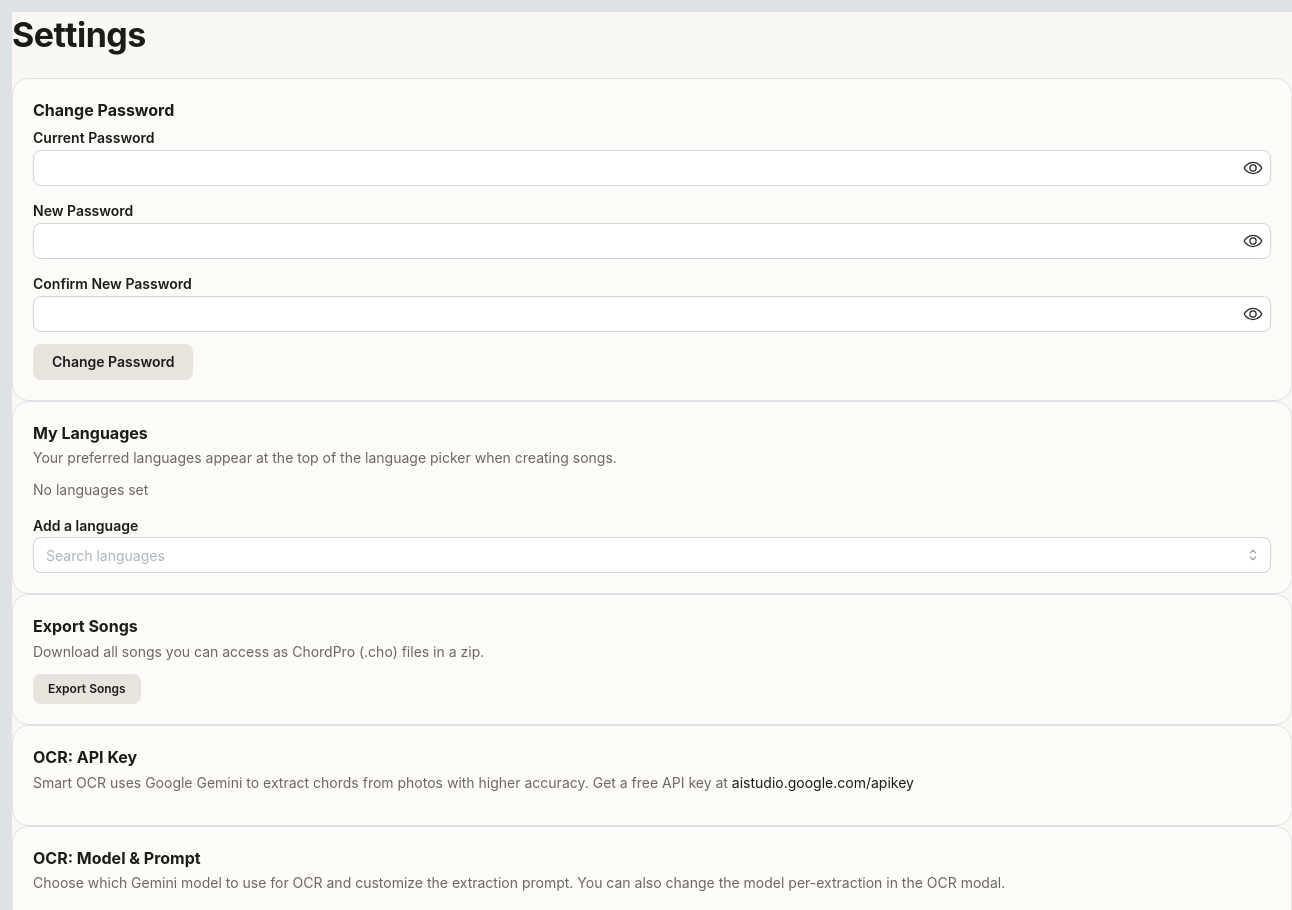
Test: rejects mismatched passwords without making a write
The width and height of the screenshot is (1292, 910).
Type "oldpass" into the password field labelled "Current Password" at (652,168), box top-left (34, 151), bottom-right (1270, 185)
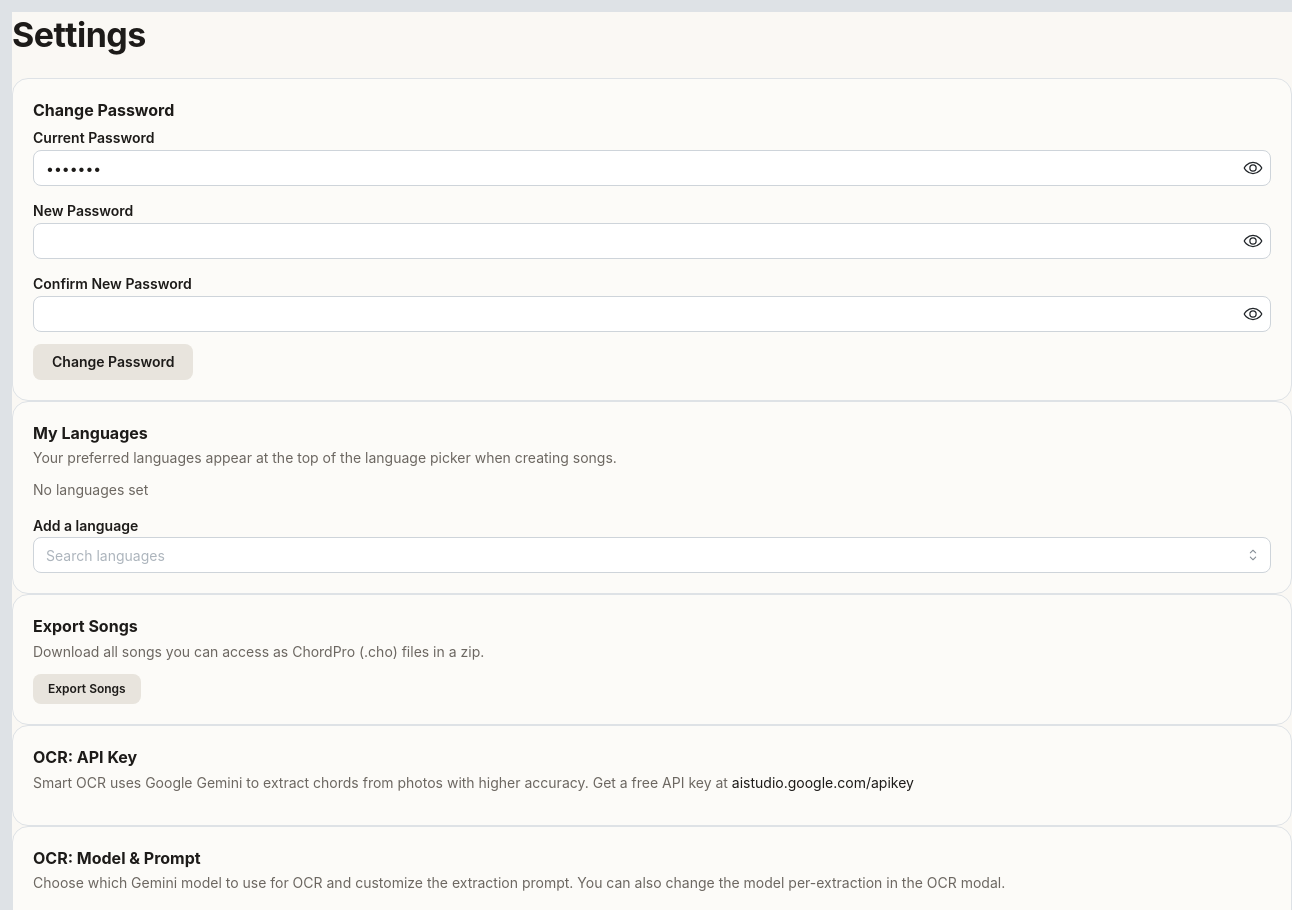
Type "newpass" into the password field labelled "New Password" at (652,241), box top-left (34, 224), bottom-right (1270, 258)
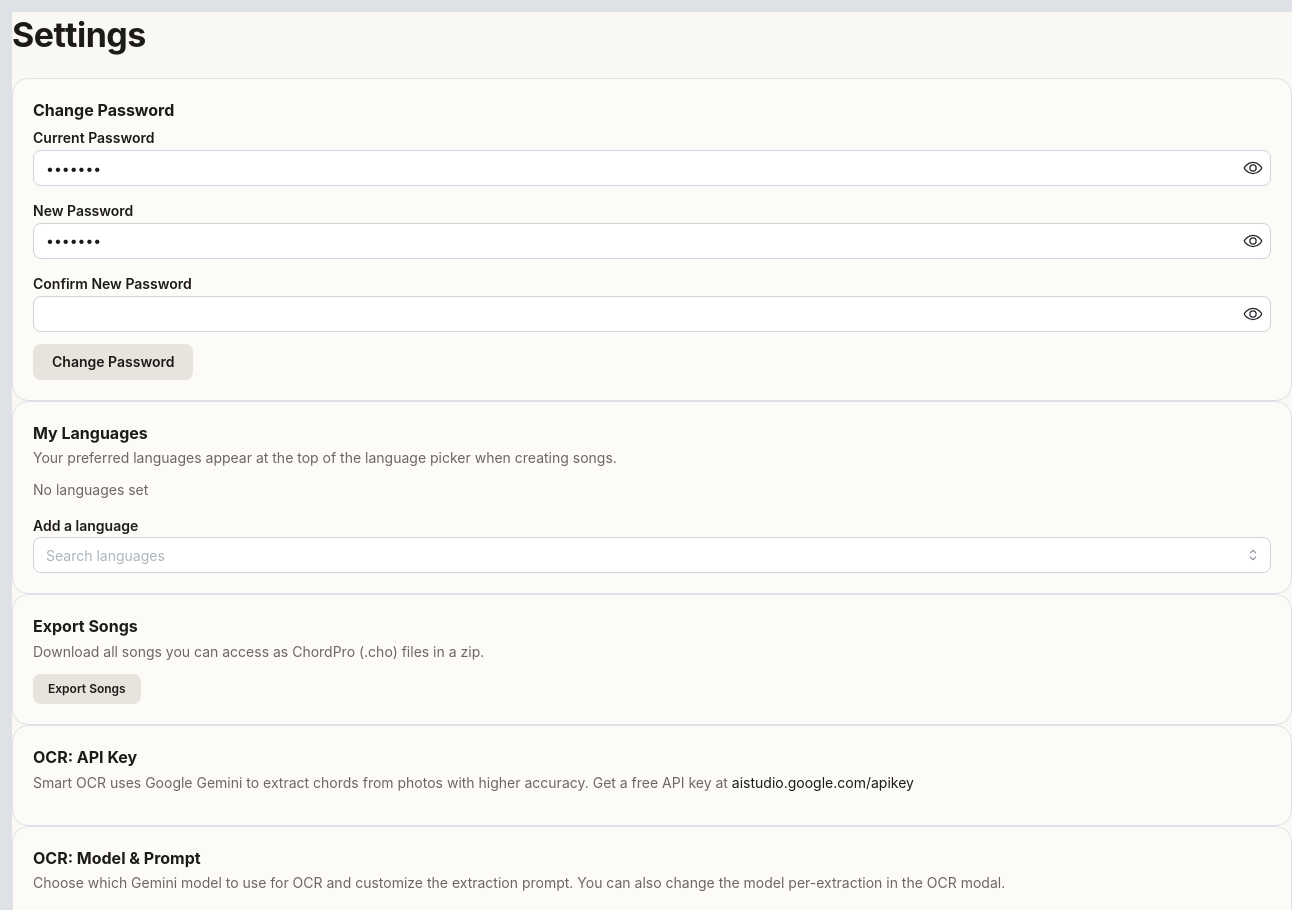
Type "different" into the password field labelled "Confirm New Password" at (652,314), box top-left (34, 297), bottom-right (1270, 331)
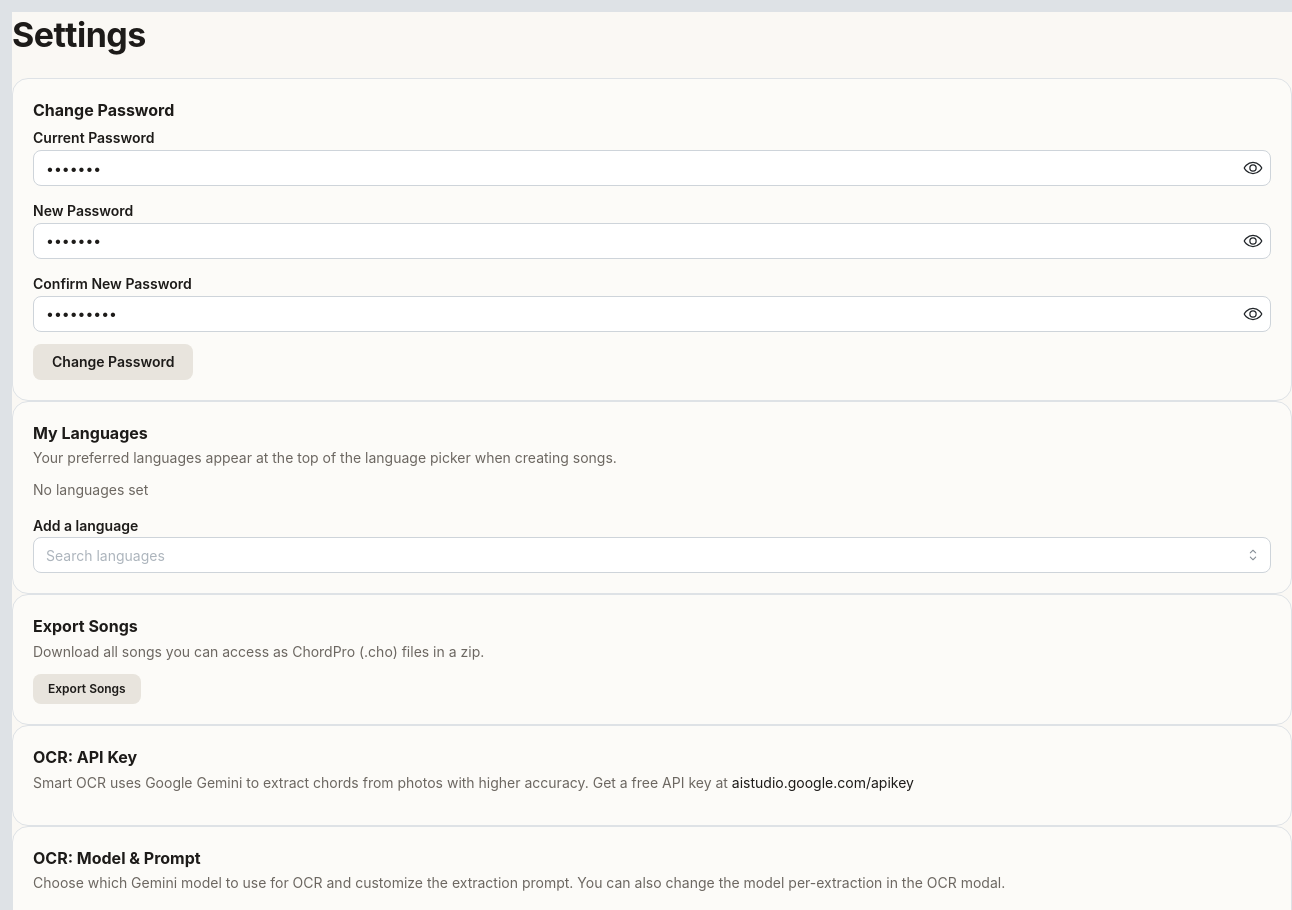
Click the button "Change Password" at (113,362), box top-left (33, 344), bottom-right (193, 380)
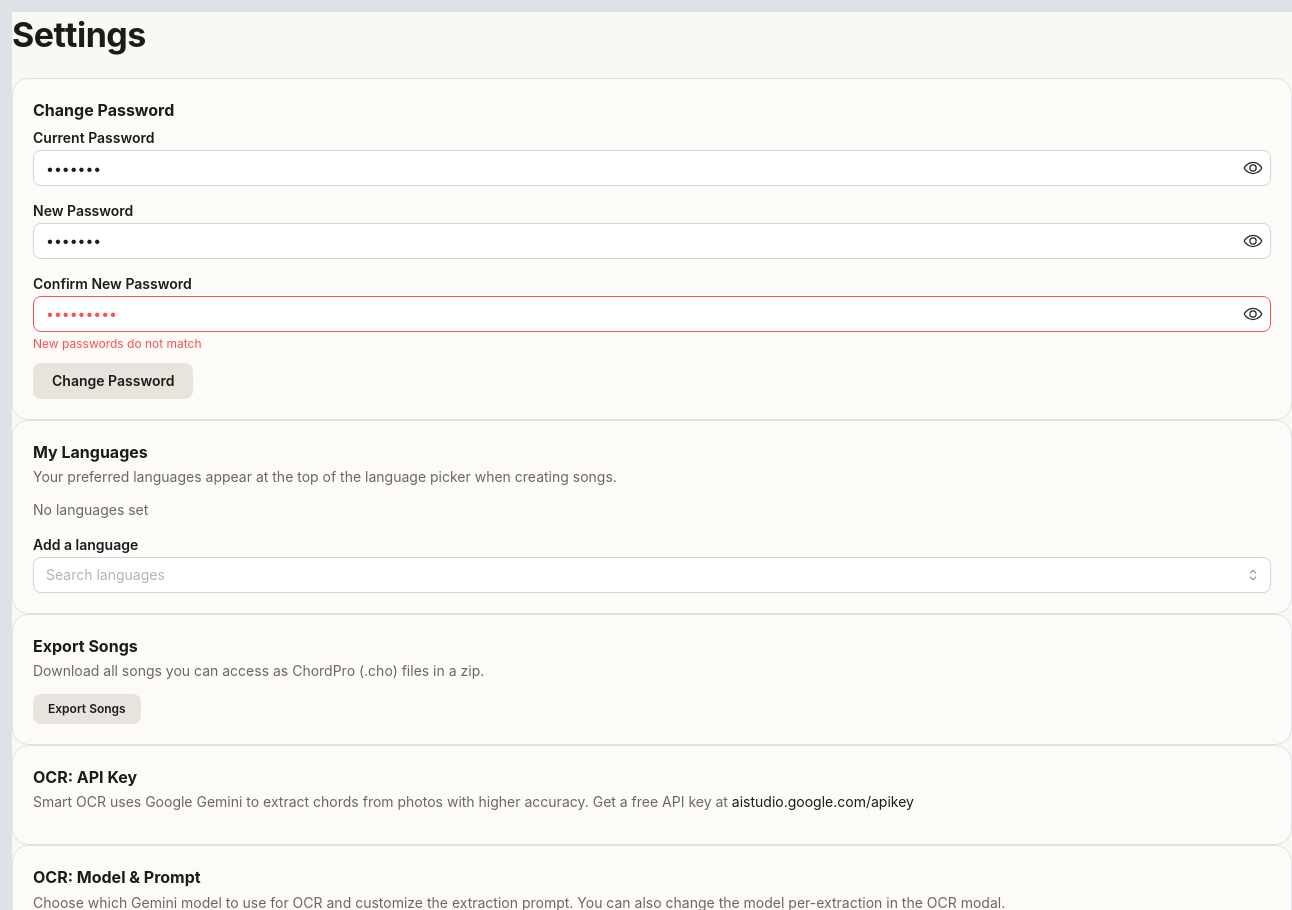
Now the text "New passwords do not match" is shown, box top-left (33, 336), bottom-right (202, 351)
